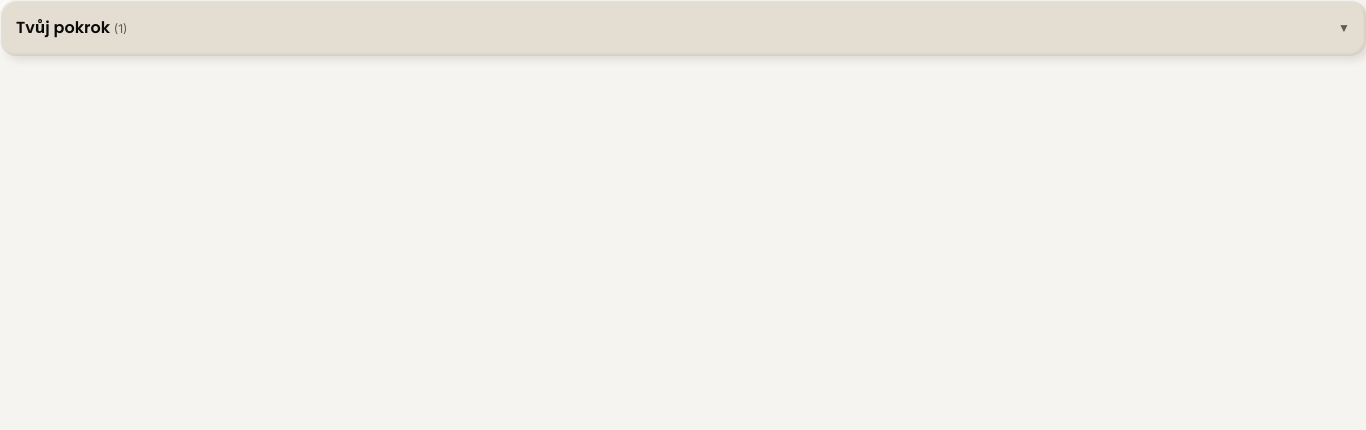
BeforeAfter › shows the first and latest recording of a piece with its name
Step 1. Click the button "Tvůj pokrok (1) ▼" → click(63, 28), box [16, 16, 1350, 40]
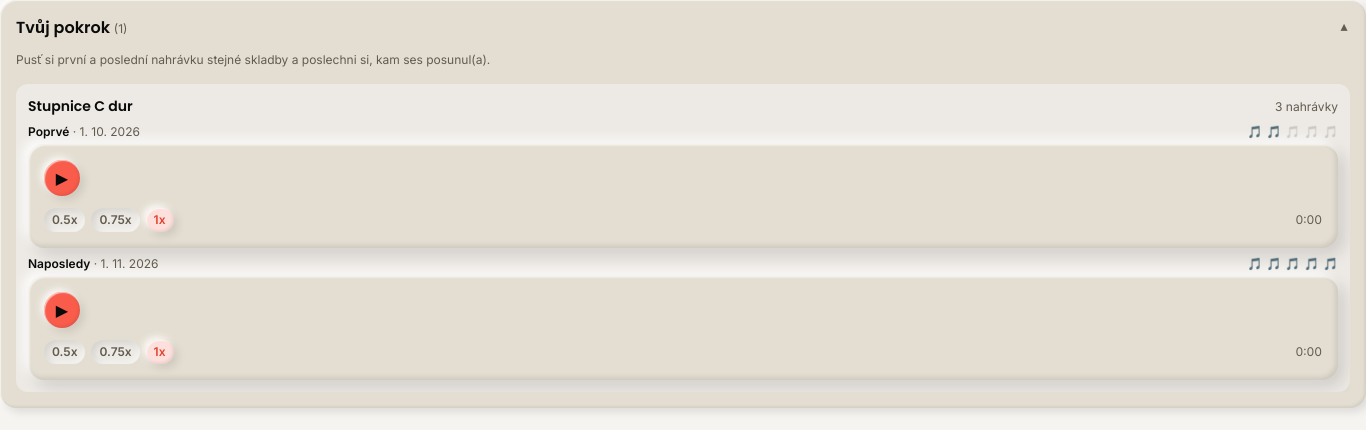
Result: the text "Stupnice C dur" is shown at [28, 96, 133, 116]
Result: the text "3 nahrávky" is shown at [1275, 99, 1338, 115]
Result: the text "Poprvé" is shown at [28, 124, 69, 139]
